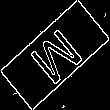M_SE: (23, 21, 87, 89)
